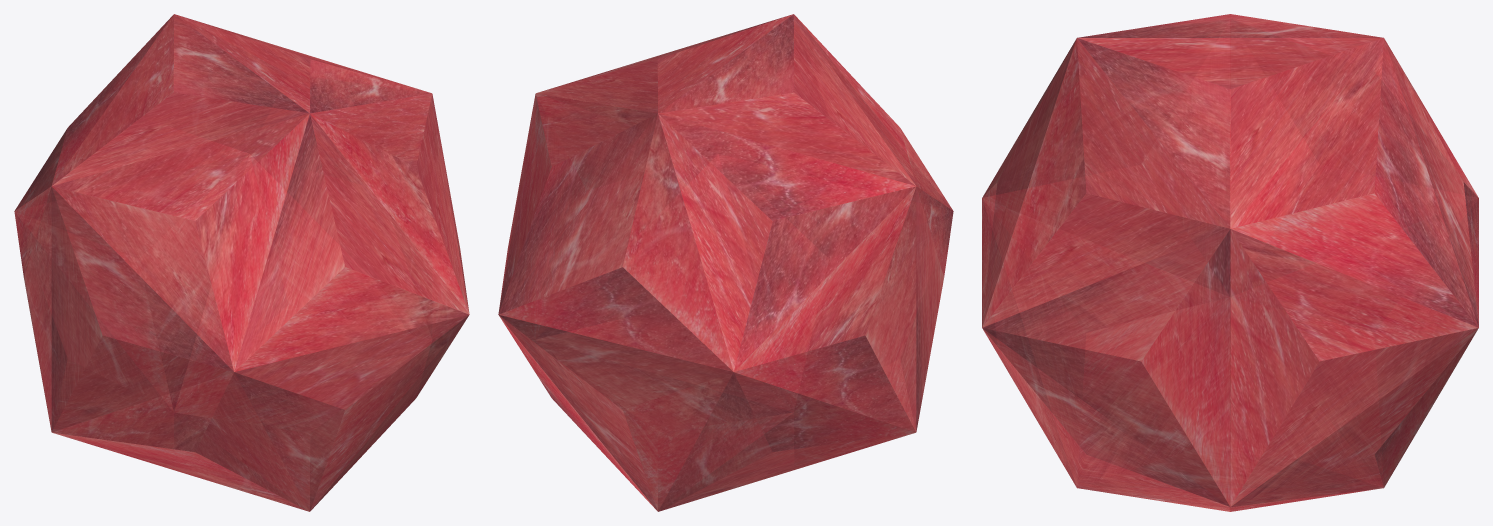
Rendered from TriakisIcosahedron.obj.
3 views of the same model, side by side, from view 1: azimuth 30°, elevation 25°; view 2: azimuth 150°, elevation 25°; view 3: azimuth 270°, elevation 25° (orthographic). The views are drawn at different scales.
Size of the model in its own units: 5.85 by 5.85 by 5.85.
Materials: 1 (1 with a texture image).
